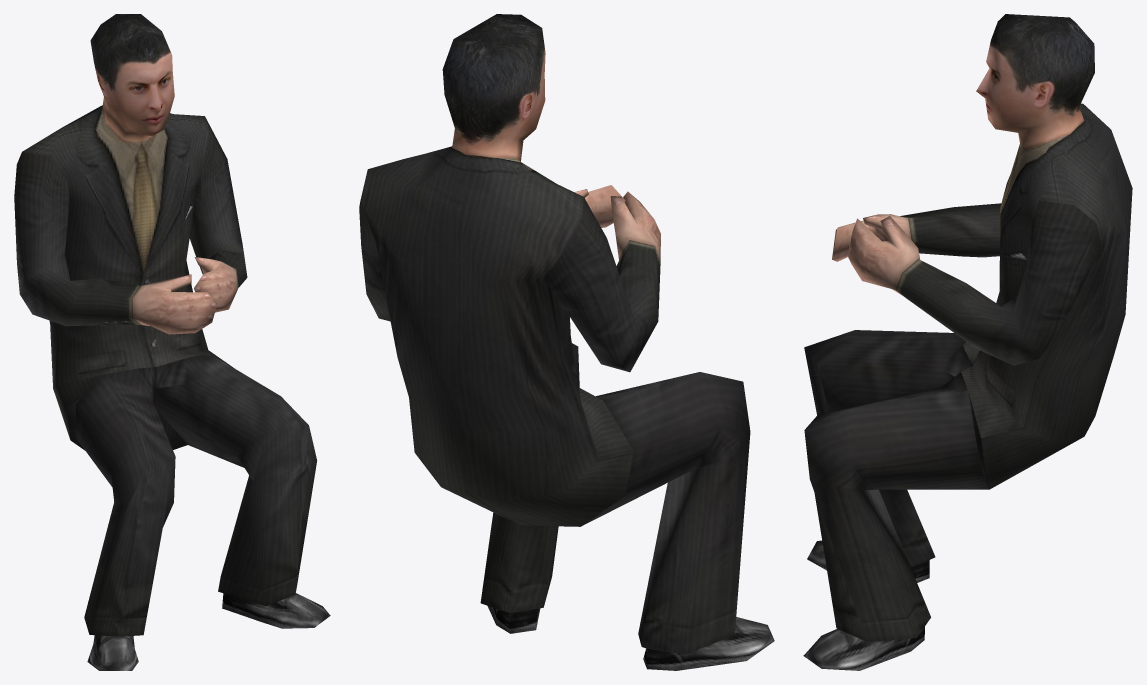
The model's file is Man01_2.glb.
3 views of the same model, side by side, from view 1: azimuth 30°, elevation 25°; view 2: azimuth 150°, elevation 25°; view 3: azimuth 270°, elevation 25° (orthographic). The views are drawn at different scales.
Visible parts, largest first — view 1: business02_m_lowpoly_网格_business02_m_lowpoly_网格mesh; view 2: business02_m_lowpoly_网格_business02_m_lowpoly_网格mesh; view 3: business02_m_lowpoly_网格_business02_m_lowpoly_网格mesh.
Part boxes in pixels (left/top/right/bottom): business02_m_lowpoly_网格_business02_m_lowpoly_网格mesh: left=14, top=14, right=330, bottom=670; business02_m_lowpoly_网格_business02_m_lowpoly_网格mesh: left=359, top=14, right=774, bottom=670; business02_m_lowpoly_网格_business02_m_lowpoly_网格mesh: left=803, top=14, right=1132, bottom=670.
Size of the model in its own units: 0.6099 by 1.37 by 0.6752.
1 material, 1 textured.
